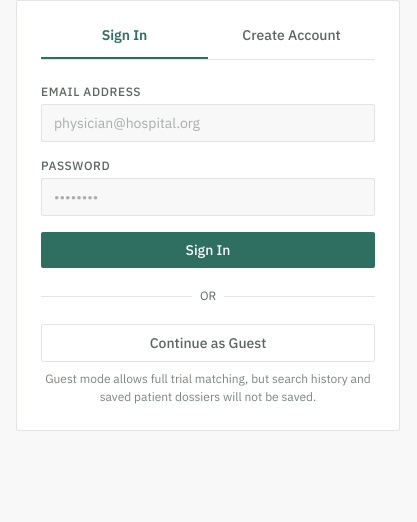
AuthForm Component - Keystroke & Input Stability › allows switching between login and signup modes smoothly
Expected: the field labelled "confirm password" is not shown
Click the button "Create Account".
click(292, 42)  # box [208, 25, 375, 59]
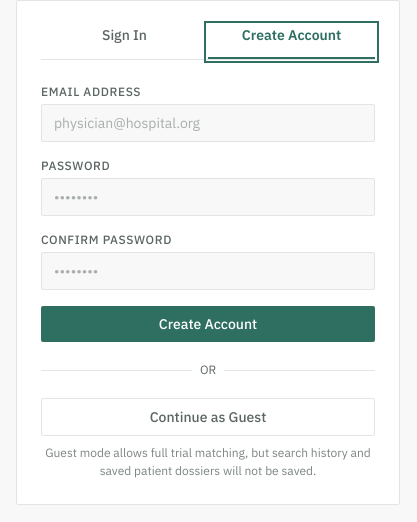
Expected: the password field labelled "Confirm Password" is shown, [41, 252, 375, 290]
